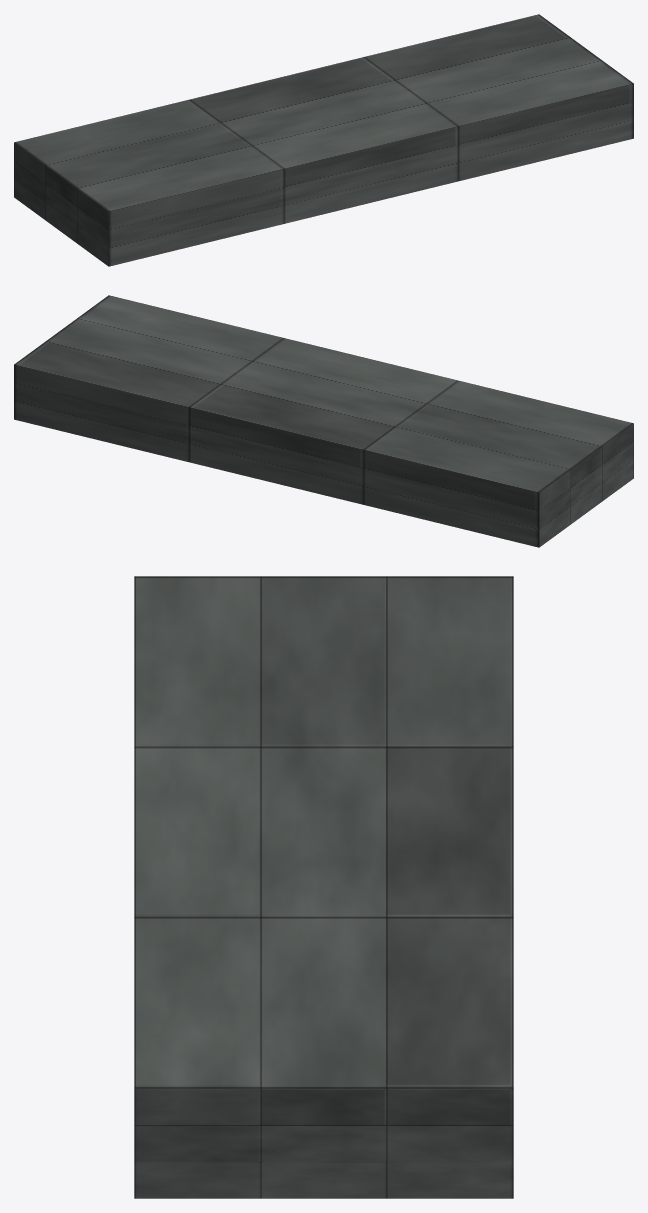
File: step.glb
3 views of the same model, one above another, from view 1: azimuth 30°, elevation 25°; view 2: azimuth 150°, elevation 25°; view 3: azimuth 270°, elevation 25° (orthographic). The views are drawn at different scales.
Visible parts, largest first — view 1: Step; view 2: Step; view 3: Step.
Part boxes in pixels (x1=…): Step: x1=14, y1=14, x2=633, y2=266; Step: x1=14, y1=295, x2=633, y2=547; Step: x1=134, y1=576, x2=513, y2=1198.
Size of what is drawn, in the model's own units: 1.6 by 0.16 by 0.5.
Materials: 1 (1 with a texture image).
